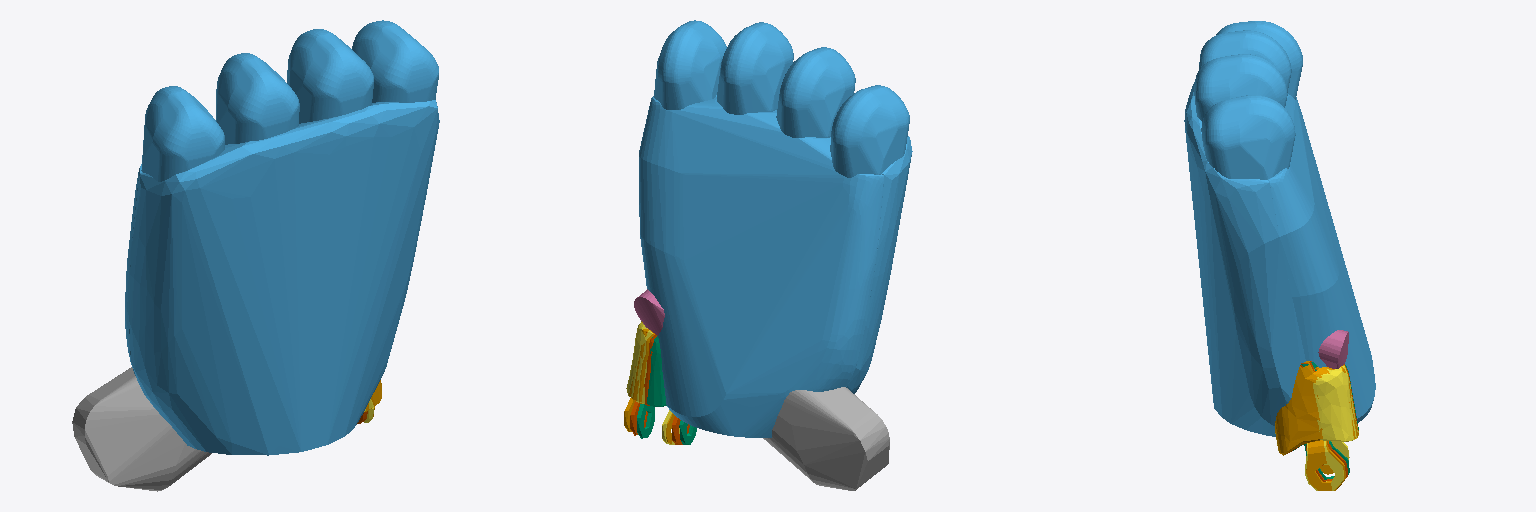
robot.urdf — ability_hand:
<!--
	NOTES:
	Units:
		Distance: m
		Angles: rad (only option)
		Mass: kg
		Inertia: kg*m^2
		
	Notes on intertia:
		-The inertias are calculated for uniform density with weights that may or may not be accurate.
		At the time of this writing only the thumb flexor weight is correct. The palm is a 'best guess' 
		approximation and the fingers are likely off by an order of magnitude
	
	Notes on finger q2:
		-The hand is a 4 bar linkage mechanism forming an 'X'. 4 bar linkages are not supported in the 
		urdf format. The motion of the second finger joint is fully defined by the motion of the first 
		finger joint. The calculation to find the index finger second joint angle given the first is provided
		in a matlab script elsewhere in this repository.
-->
<robot name="ability_hand">


	<link name="base">
		<visual name="wrist_mesh">
			<origin rpy = "0 0 0" xyz = "0 0 0"/>
			<geometry>
				<mesh filename="models/wristmesh.STL"/>
			</geometry>
		</visual>		
		<inertial>	<!-- the mass and inertia here are NOT correct -->
			<mass value = "0.200"/>
			<inertia ixx="978.26e-6" ixy = "87.34e-6" ixz = "322.99e-6" iyy = "1244.78e-6" iyz = "244.74e-6" izz = "456.22e-6" />
			<origin xyz = "22.41911e-3 -0.15798201e-3 -0.01319866e-3" rpy = "0 0 0"/>
		</inertial>
	</link>
	<joint name="wrist2thumb" type="fixed">
		<parent link="base"/>
		<child link="thumb_base"/>
		<origin xyz = "24.0476665e-3 3.78124745e-3 32.32964923e-3" rpy = "3.14148426 0.08848813 3.14036612"/>
	</joint>

	<link name="thumb_base" >
		<inertial>
			<mass value = "0.400"/>
			<inertia ixx="978.26e-6" ixy = "87.34e-6" ixz = "322.99e-6" iyy = "1244.78e-6" iyz = "244.74e-6" izz = "456.22e-6" />
			<origin xyz = "22.41911e-3 -0.15798201e-3 -0.01319866e-3" rpy = "0 0 0"/>
		</inertial>
						
		<visual name="palm_mesh">
			<origin rpy = "0 0 0" xyz = "0 0 0"/>
			<geometry>
				<mesh filename="models/FB_palm_ref.STL"/>
			</geometry>
		</visual>		
	</link>
	
	
	
	<link name="index_L1" >
		<inertial>
			<mass value = "0.00635888"/>
			<inertia ixx="0.29766e-6" ixy = "-0.06447133e-6" ixz = "-0.00423315e-6" iyy = "3.6947967e-6" iyz = "0.00083028e-6" izz = "3.8176336e-6" />
			<origin xyz = "22.41911e-3 -0.15798201e-3 -0.01319866e-3" rpy = "0 0 0"/>
		</inertial>
		<visual name="index_mesh_1">
			<origin xyz = "38.472723e-3 3.257695e-3 0.000000" rpy = "0 0 0.084474"/>
			<geometry>
				<mesh filename="models/idx-F1.STL"/>
			</geometry>
		</visual>
	</link>
	<link name="index_L2" >
		<inertial>
			<mass value = "0.00645"/>
			<inertia ixx="0.82671e-6" ixy = "-1.08876e-6" ixz = "-0.00037e-6" iyy = "1.98028e-6" iyz = "0.00081e-6" izz = "2.64638e-6" />
			<origin rpy = "0 0 0" xyz = "13.36818e-3 -8.75392e-3 -0.02886e-3"/>
		</inertial>		
		<visual name="index_mesh_2">
			<origin rpy = "0 0 0" xyz = "9.1241e-3 0 0"/>
			<geometry>
				<mesh filename="models/idx-F2.STL"/>
			</geometry>
		</visual>
	</link>	
	<joint name="index_q1" type="revolute">
		<parent link="thumb_base"/>
		<child link="index_L1"/>
		<origin xyz = "-9.49e-3 -13.04e-3 -62.95e-3" rpy = "-1.982050 1.284473 -2.090591" />
		<axis xyz="0 0 1"/>
		<limit lower = "0" upper = "2.0943951" effort = "0.20" velocity = "8.0677777442"/>		<!-- angles in rad, efforts in N-m, velocity in rad/s -->
		<dynamics damping = "0.001" friction = "0.001" />	<!-- Friction coefficient is not from quantitative measurement -->
	</joint>
	<joint name="index_q2" type="revolute">
		<parent link="index_L1"/>
		<child link="index_L2"/>
		<origin xyz = "38.472723e-3 3.257695e-3 0.000000e-3" rpy = "0 0 0.084474"/>
		<axis xyz="0 0 1"/>
		<limit lower = "0.0" upper = "2.6586" effort = "0.20" velocity = "8.0677777442"/>		<!-- angles in rad, efforts in N-m, velocity in rad/s -->
		<dynamics damping = "0.001" friction = "0.001" />	<!-- Friction coefficient is not from quantitative measurement -->
		<mimic joint = "index_q1" multiplier =  "1.05851325" offset = "0.72349796"/>
	</joint>
	<link name="index_anchor"/>
	<joint name="idx_anchor" type="fixed">
		<parent link = "index_L2"/>
		<child link = "index_anchor"/>
		<origin rpy = "0 0 0" xyz = "31.5541e-3  -10.44e-3 0.14e-3"/>
	</joint>

	

	<link name="middle_L1" >
		<inertial>
			<mass value = "0.00635888"/>
			<inertia ixx="0.29766e-6" ixy = "-0.06447133e-6" ixz = "-0.00423315e-6" iyy = "3.6947967e-6" iyz = "0.00083028e-6" izz = "3.8176336e-6" />
			<origin xyz = "22.41911e-3 -0.15798201e-3 -0.01319866e-3" rpy = "0 0 0"/>
		</inertial>
		
		<visual name="middle_mesh_1">
			<origin xyz = "38.472723e-3 3.257695e-3 0.000000" rpy = "0 0 0.084474"/>
			<geometry>
				<mesh filename="models/idx-F1.STL"/>
			</geometry>
		</visual>
		
	</link>
	<link name="middle_L2" >
		<inertial>
			<mass value = "0.00645"/>
			<inertia ixx="0.82671e-6" ixy = "-1.08876e-6" ixz = "-0.00037e-6" iyy = "1.98028e-6" iyz = "0.00081e-6" izz = "2.64638e-6" />
			<origin rpy = "0 0 0" xyz = "13.36818e-3 -8.75392e-3 -0.02886e-3"/>
		</inertial>
		<visual name="middle_mesh_2">
			<origin rpy = "0 0 0" xyz = "9.1241e-3 0 0"/>
			<geometry>
				<mesh filename="models/idx-F2.STL"/>
			</geometry>
		</visual>
	</link>
	<joint name="middle_q1" type="revolute">
		<parent link="thumb_base"/>
		<child link="middle_L1"/>
		<origin xyz = "9.653191e-3 -15.310271e-3 -67.853949e-3" rpy = "-1.860531 1.308458 -1.896217" />
		<limit lower = "0" upper = "2.0943951" effort = "0.20" velocity = "8.0677777442"/>		<!-- angles in rad, efforts in N-m, velocity in rad/s -->
		<dynamics damping = "0.001" friction = "0.001" />	<!-- Friction coefficient is not from quantitative measurement -->
		<axis xyz="0 0 1"/>
	</joint>
	<joint name="middle_q2" type="revolute">
		<parent link="middle_L1"/>
		<child link="middle_L2"/>
		<origin xyz = "38.472723e-3 3.257695e-3 0.000000" rpy = "0 0 0.084474"/>
		<axis xyz="0 0 1"/>
		<limit lower = "0.0" upper = "2.6586" effort = "0.20" velocity = "8.0677777442"/>		<!-- angles in rad, efforts in N-m, velocity in rad/s -->
		<dynamics damping = "0.001" friction = "0.001" />	<!-- Friction coefficient is not from quantitative measurement -->
		<mimic joint = "middle_q1" multiplier =  "1.05851325" offset = "0.72349796"/>
	</joint>
	<link name="middle_anchor"/>
	<joint name="mid_anchor" type="fixed">
		<parent link = "middle_L2"/>
		<child link = "middle_anchor"/>
		<origin rpy = "0 0 0" xyz = "31.5541e-3  -10.44e-3 0.14e-3"/>
	</joint>





	<link name="ring_L1" >
		<inertial>
			<mass value = "0.00635888"/>
			<inertia ixx="0.29766e-6" ixy = "-0.06447133e-6" ixz = "-0.00423315e-6" iyy = "3.6947967e-6" iyz = "0.00083028e-6" izz = "3.8176336e-6" />
			<origin xyz = "22.41911e-3 -0.15798201e-3 -0.01319866e-3" rpy = "0 0 0"/>
		</inertial>
		
		<visual name="ring_mesh_1">
			<origin xyz = "38.472723e-3 3.257695e-3 0.000000" rpy = "0 0 0.084474"/>
			<geometry>
				<mesh filename="models/idx-F1.STL"/>
			</geometry>
		</visual>
	</link>
	<link name="ring_L2" >
		<inertial>
			<mass value = "0.00645"/>
			<inertia ixx="0.82671e-6" ixy = "-1.08876e-6" ixz = "-0.00037e-6" iyy = "1.98028e-6" iyz = "0.00081e-6" izz = "2.64638e-6" />
			<origin rpy = "0 0 0" xyz = "13.36818e-3 -8.75392e-3 -0.02886e-3"/>
		</inertial>
		<visual name="ring_mesh_2">
			<origin rpy = "0 0 0" xyz = "9.1241e-3 0 0"/>
			<geometry>
				<mesh filename="models/idx-F2.STL"/>
			</geometry>
		</visual>		
	</link>
	<joint name="ring_q1" type="revolute">
		<parent link="thumb_base"/>
		<child link="ring_L1"/>
		<origin xyz = "29.954260e-3 -14.212492e-3 -67.286105e-3" rpy = "-1.716598 1.321452 -1.675862" />
		<limit lower = "0" upper = "2.0943951" effort = "0.20" velocity = "8.0677777442"/>		<!-- angles in rad, efforts in N-m, velocity in rad/s -->
		<dynamics damping = "0.001" friction = "0.001" />	<!-- Friction coefficient is not from quantitative measurement -->
		<axis xyz="0 0 1"/>
	</joint>
	<joint name="ring_q2" type="revolute">
		<parent link="ring_L1"/>
		<child link="ring_L2"/>
		<origin xyz = "38.472723e-3 3.257695e-3 0.000000" rpy = "0 0 0.084474"/>
		<axis xyz="0 0 1"/>
		<limit lower = "0.0" upper = "2.6586" effort = "0.20" velocity = "8.0677777442"/>		<!-- angles in rad, efforts in N-m, velocity in rad/s -->
		<dynamics damping = "0.001" friction = "0.001" />	<!-- Friction coefficient is not from quantitative measurement -->
		<mimic joint = "ring_q1" multiplier =  "1.05851325" offset = "0.72349796"/>
	</joint>
	<link name="ring_anchor"/>
	<joint name="rng_anchor" type="fixed">
		<parent link = "ring_L2"/>
		<child link = "ring_anchor"/>
		<origin rpy = "0 0 0" xyz = "31.5541e-3  -10.44e-3 0.14e-3"/>
	</joint>



	<link name="pinky_L1" >
		<inertial>
			<mass value = "0.00635888"/>
			<inertia ixx="0.29766e-6" ixy = "-0.06447133e-6" ixz = "-0.00423315e-6" iyy = "3.6947967e-6" iyz = "0.00083028e-6" izz = "3.8176336e-6" />
			<origin xyz = "22.41911e-3 -0.15798201e-3 -0.01319866e-3" rpy = "0 0 0"/>
		</inertial>
		
		<visual name="pinky_mesh_1">
			<origin xyz = "38.472723e-3 3.257695e-3 0.000000" rpy = "0 0 0.084474"/>
			<geometry>
				<mesh filename="models/idx-F1.STL"/>
			</geometry>
		</visual>
	</link>
	<link name="pinky_L2" >
		<inertial>
			<mass value = "0.00645"/>
			<inertia ixx="0.82671e-6" ixy = "-1.08876e-6" ixz = "-0.00037e-6" iyy = "1.98028e-6" iyz = "0.00081e-6" izz = "2.64638e-6" />
			<origin rpy = "0 0 0" xyz = "13.36818e-3 -8.75392e-3 -0.02886e-3"/>
		</inertial>
		<visual name="pinky_mesh_2">
			<origin rpy = "0 0 0" xyz = "9.1241e-3 0 0"/>
			<geometry>
				<mesh filename="models/idx-F2.STL"/>
			</geometry>
		</visual>		
	</link>
	<joint name="pinky_q1" type="revolute">
		<parent link="thumb_base"/>
		<child link="pinky_L1"/>
		<origin xyz = "49.521293e-3 -11.004583e-3 -63.029065e-3" rpy = "-1.765110 1.322220 -1.658383" />
		<limit lower = "0" upper = "2.0943951" effort = "0.20" velocity = "8.0677777442"/>		<!-- angles in rad, efforts in N-m, velocity in rad/s -->
		<dynamics damping = "0.001" friction = "0.001" />	<!-- Friction coefficient is not from quantitative measurement -->
		<axis xyz="0 0 1"/>
	</joint>
	<joint name="pinky_q2" type="revolute">
		<parent link="pinky_L1"/>
		<child link="pinky_L2"/>
		<origin xyz = "38.472723e-3 3.257695e-3 0.000000" rpy = "0 0 0.084474"/>
		<limit lower = "0.0" upper = "2.6586" effort = "0.20" velocity = "8.0677777442"/>		<!-- angles in rad, efforts in N-m, velocity in rad/s -->
		<dynamics damping = "0.001" friction = "0.001" />	<!-- Friction coefficient is not from quantitative measurement -->
		<axis xyz="0 0 1"/>
		<mimic joint = "pinky_q1" multiplier =  "1.05851325" offset = "0.72349796"/>
	</joint>
	<link name="pinky_anchor"/>
	<joint name="pnky_anchor" type="fixed">
		<parent link = "pinky_L2"/>
		<child link = "pinky_anchor"/>
		<origin rpy = "0 0 0" xyz = "31.5541e-3  -10.44e-3 0.14e-3"/>
	</joint>



	<link name="thumb_L1" >
		<inertial>
			<mass value = "0.00268342"/>
			<inertia ixx="0.16931e-6" ixy = "-0.076214e-6" ixz = "-0.16959148e-6" iyy = "0.77769934e-6" iyz = "0.0156622e-6" izz = "0.7249122e-6" />
			<origin rpy = "0 0 0" xyz = "14.606e-3 -1.890854e-3 -3.1155356e-3"/>
		</inertial>
		
		<visual name="thumb_mesh_1">
			<origin xyz = "27.8283501e-3 0 -14.7507000e-3" rpy = "4.450589592585541 0 0" />
			<geometry>
				<mesh filename="models/thumb-F1.STL"/>
			</geometry>
		</visual>
		
	</link>
	<link name="thumb_L2" >
		<inertial>
			<mass value = "0.0055"/>
			<inertia ixx="4.4789082e-6" ixy = "4.4789082e-6" ixz = "-0.62144934e-6" iyy = "15.600996e-6" iyz = "-0.07466143e-6" izz = "17.908554e-6" />
			<origin rpy = "0 0 0" xyz = "30.020522e-3 5.59476e-3 -4.1504356e-3"/>
		</inertial>
		
		<visual name="thumb_mesh_2">
			<origin xyz = "65.18669e-3 23.34021e-3 -3.93483e-3" rpy = "3.141592 0 0.343830"/>
			<geometry>
				<mesh filename="models/thumb-F2.STL"/>
			</geometry>
		</visual>
		
	</link>
	<joint name="thumb_q1" type="revolute">
		<parent link="thumb_base"/>
		<child link="thumb_L1"/>
		<origin xyz = "0 0 0" rpy = "0 0 3.330437"/>
		<axis xyz="0 0 1"/>
		<limit lower = "-2.0943951" upper = "0" effort = "0.20" velocity = "8.0677777442"/>		<!-- angles in rad, efforts in N-m, velocity in rad/s -->
		<dynamics damping = "0.001" friction = "0.001" />	<!-- Friction coefficient is not from quantitative measurement -->
	</joint>
	<joint name="thumb_q2" type="revolute">
		<parent link="thumb_L1"/>
		<child link="thumb_L2"/>
		<origin xyz = "27.8283501e-3 0 -14.7507000e-3" rpy = "4.450589592585541 0 0" />
		<axis xyz="0 0 1"/>
		<limit lower = "0" upper = "2.0943951" effort = "0.20" velocity = "8.0677777442"/>		<!-- angles in rad, efforts in N-m, velocity in rad/s -->
		<dynamics damping = "0.001" friction = "0.001" />	<!-- Friction coefficient is not from quantitative measurement -->		
	</joint>
	<link name="thumb_anchor"/>
	<joint name="thmb_anchor" type="fixed">
		<parent link = "thumb_L2"/>
		<child link = "thumb_anchor"/>
		<origin rpy = "0 0 0" xyz = "63.868144e-3  23.807059e-3 -3.629831e-3"/>
	</joint>
</robot>

--- Render facts (derived) ---
The picture shows the robot from 3 angles, left to right: view 1: azimuth 30°, elevation 25°; view 2: azimuth 150°, elevation 25°; view 3: azimuth 270°, elevation 25°; orthographic projection.
Robot: ability_hand — 17 links, 16 joints (10 revolute, 6 fixed); root link base; default pose: every joint at zero.
Links seen in each view (by area): view 1: thumb_base, thumb_L2; view 2: thumb_base, thumb_L2, index_L1, pinky_L1, thumb_L1, ring_L1, middle_L1; view 3: thumb_base, ring_L1, pinky_L1, thumb_L1.
Boxes of the visible links, <box> form: thumb_base: <box>125,20,439,455</box>; thumb_L2: <box>72,367,211,491</box>; thumb_base: <box>639,20,912,437</box>; thumb_L2: <box>763,387,889,490</box>; index_L1: <box>637,336,696,444</box>; pinky_L1: <box>626,321,679,444</box>; thumb_L1: <box>634,289,664,335</box>; ring_L1: <box>624,322,674,443</box>; middle_L1: <box>630,332,689,444</box>; thumb_base: <box>1184,21,1375,436</box>; ring_L1: <box>1275,361,1358,490</box>; pinky_L1: <box>1275,366,1358,490</box>; thumb_L1: <box>1318,330,1348,368</box>.
Bounding box of the posed robot: 88.15 × 53.01 × 125 m (x, y, z).
Meshes: 6 distinct files referenced, 11 mesh visuals loaded (5 binary STL); not drawn: 1 (reference not matched to a file when rendering).